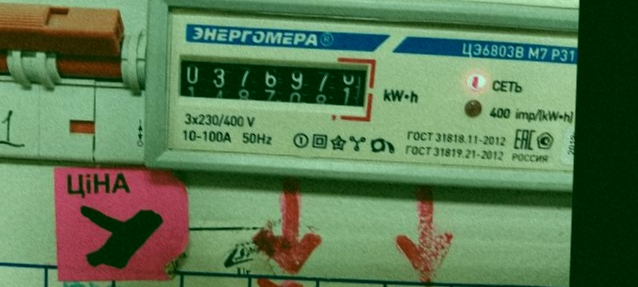0: (182, 62, 197, 84)
1: (339, 85, 350, 106)
3: (210, 67, 225, 88)
6: (261, 65, 277, 88)
7: (235, 65, 251, 89), (313, 70, 329, 93)
9: (287, 68, 302, 90)
screen: (167, 41, 379, 125)
